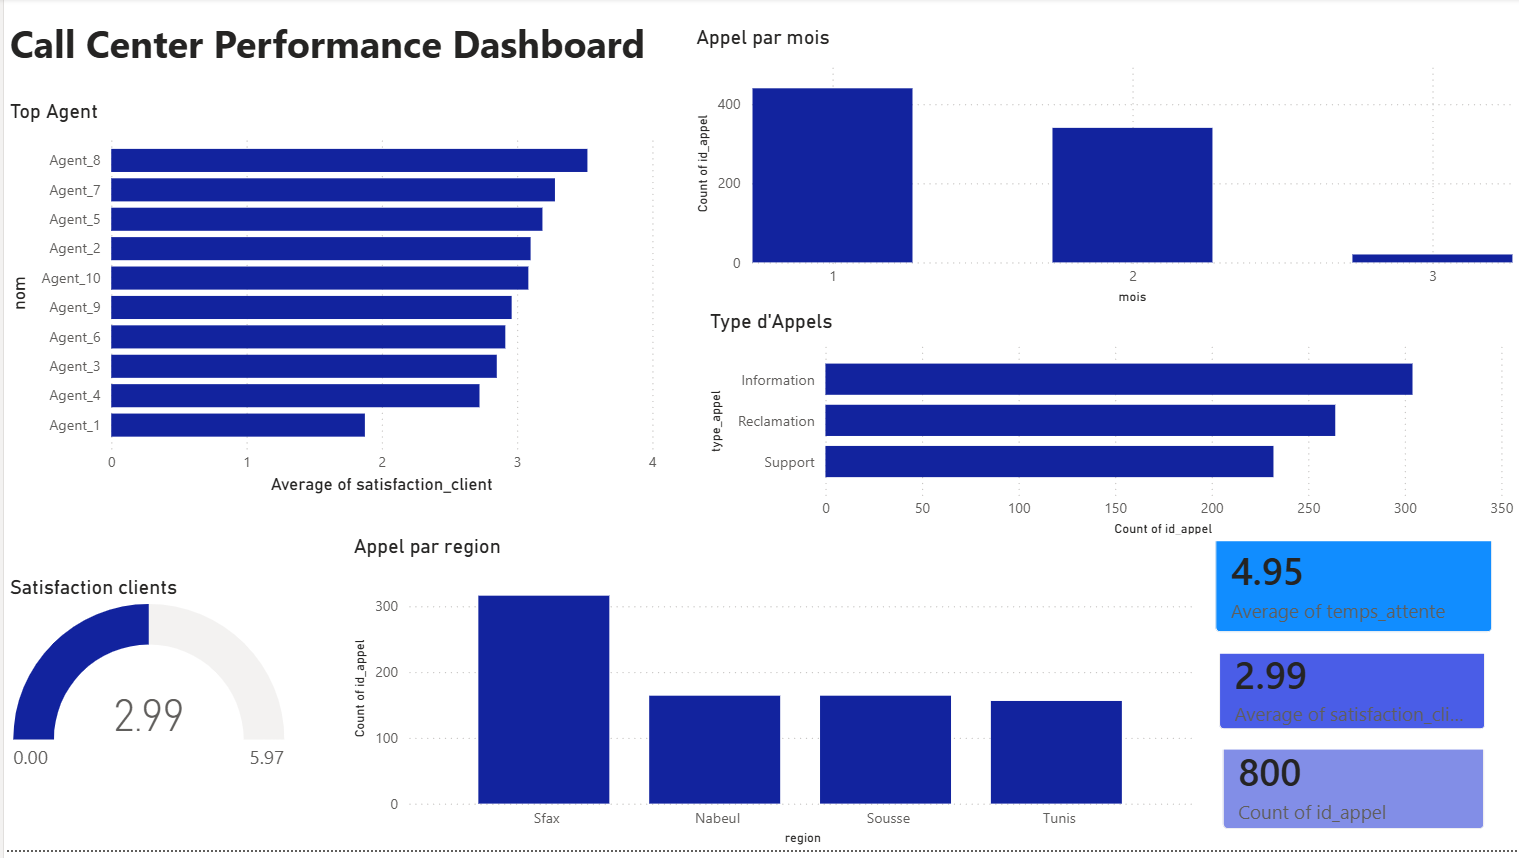

What the dashboard file says about the page in this screenshot:
{"tool":"powerbi","page":{"name":"Page 1","canvas":[1280,720],"ordinal":0},"visuals":[{"type":"cardVisual","fields":{"Data":["CountNonNull(Sheet1.id_appel)"]},"box":[1000.3,607.9,279.9,112.5],"z":0},{"type":"cardVisual","fields":{"Data":["Avg(Sheet1.satisfaction_client)"]},"box":[1000.3,514.6,279.9,108.4],"z":1},{"type":"cardVisual","fields":{"Data":["Avg(Sheet1.temps_attente)"]},"box":[1000.3,424,279.9,112.5],"z":2},{"type":"barChart","title":"Top Agent","fields":{"Category":["Sheet1.nom"],"Y":["Avg(Sheet1.satisfaction_client)"]},"box":[0,0,580.4,388.3],"z":3},{"type":"clusteredColumnChart","title":"Appel par mois","fields":{"Category":["Sheet1.mois"],"Y":["CountNonNull(Sheet1.id_appel)"]},"box":[580.4,0,699.8,240.1],"z":4},{"type":"clusteredBarChart","title":"Type d''Appels","fields":{"Y":["CountNonNull(Sheet1.id_appel)"],"Category":["Sheet1.type_appel"]},"box":[591.4,240.1,688.9,196.2],"z":5},{"type":"clusteredColumnChart","title":"Appel par region","fields":{"Category":["Sheet1.region"],"Y":["CountNonNull(Sheet1.id_appel)"]},"box":[290.9,452.8,721.8,267.6],"z":6},{"type":"gauge","title":"Satisfaction clients","fields":{"Y":["Avg(Sheet1.satisfaction_client)"]},"box":[0,388.3,241.5,131.7],"z":7}]}

Visuals, with their boxes in screenshot pixels (x1, y1, x2, y2), scaled from the page's 1280x720 canvas onto the 1519x858 screenshot:
cardVisual - CountNonNull(Sheet1.id_appel): box=[1187, 724, 1518, 857]
cardVisual - Avg(Sheet1.satisfaction_client): box=[1187, 613, 1518, 742]
cardVisual - Avg(Sheet1.temps_attente): box=[1187, 505, 1518, 639]
"Top Agent" barChart: box=[0, 0, 689, 463]
"Appel par mois" clusteredColumnChart: box=[689, 0, 1518, 286]
"Type d''Appels" clusteredBarChart: box=[702, 286, 1518, 520]
"Appel par region" clusteredColumnChart: box=[345, 540, 1202, 857]
"Satisfaction clients" gauge: box=[0, 463, 287, 620]
